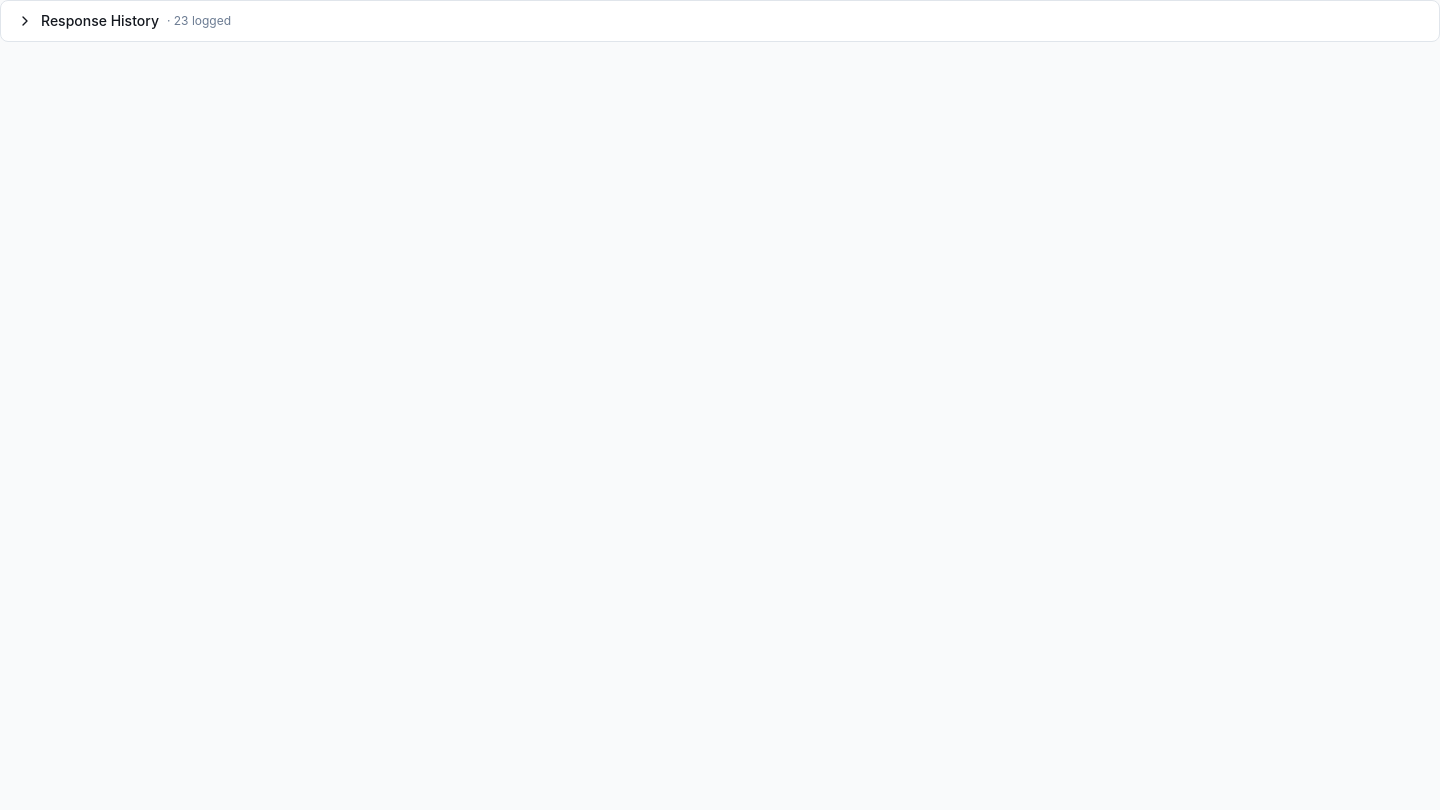
Test case: ResponseHistoryPanel — table, filters and paging › pages forward
The width and height of the screenshot is (1440, 810).
Click the button "Response History · 23 logged": [100, 20] box [1,1,1439,41]
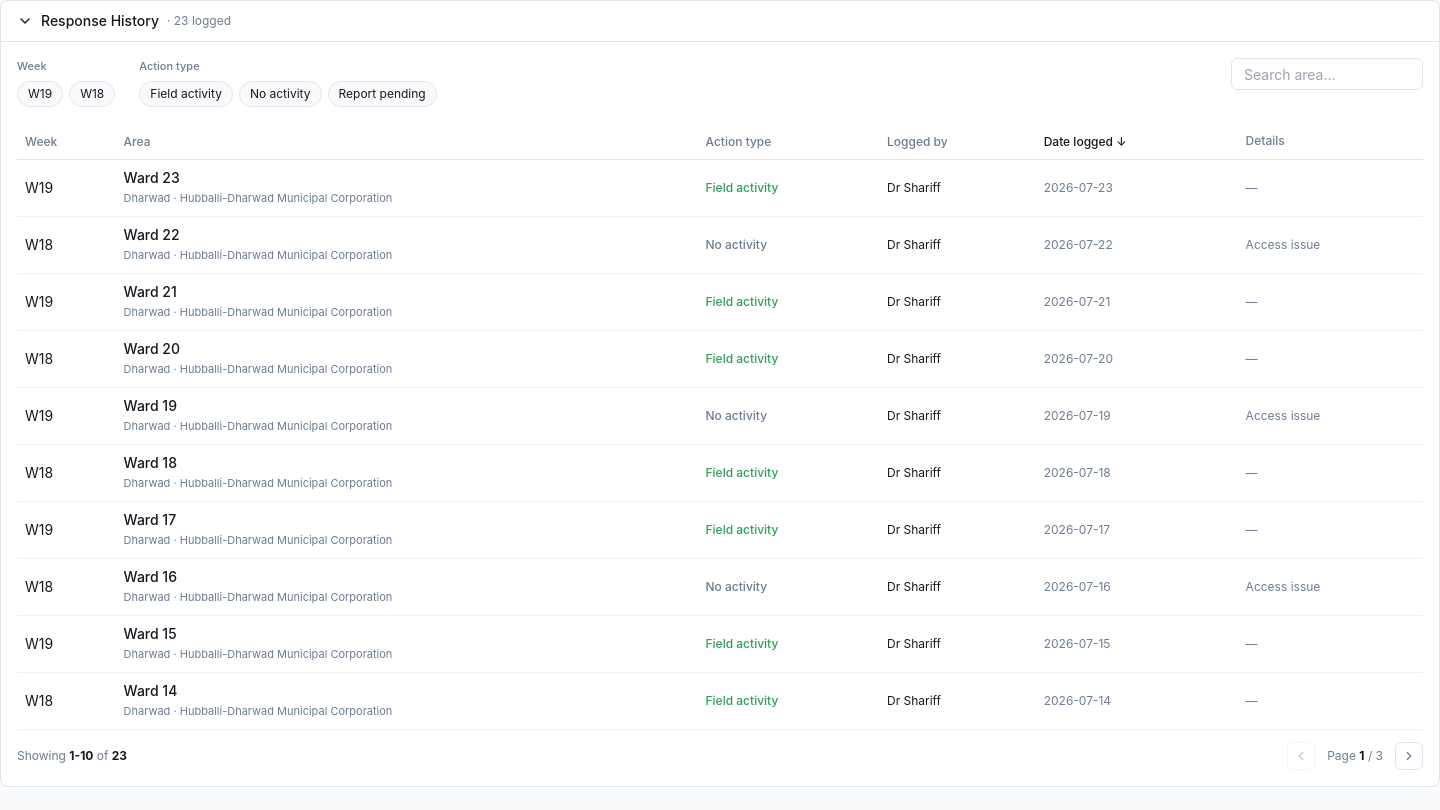
Click the button named "Next page": [1409, 756] box [1395,742,1423,770]
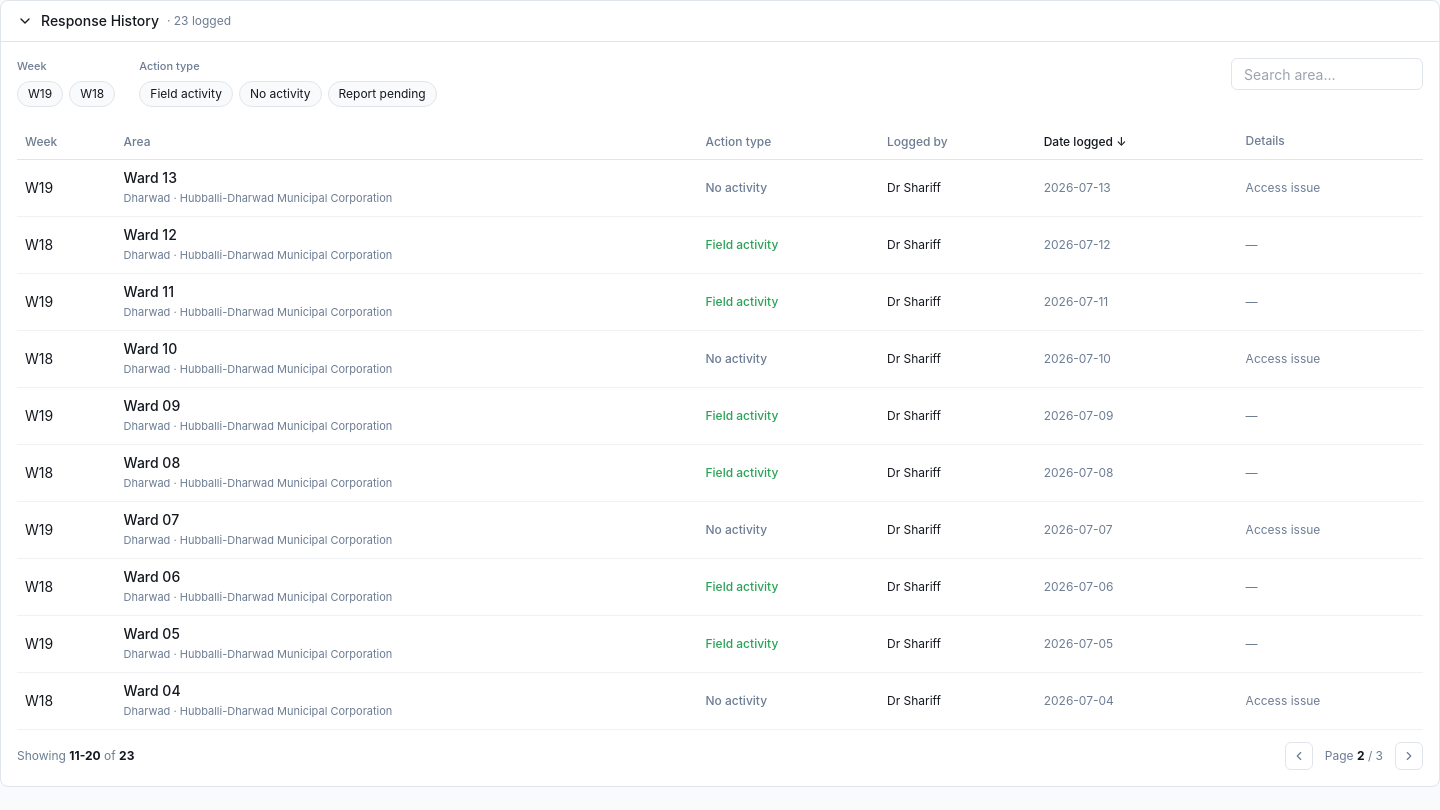
Now the text "Showing 11-20 of 23" is shown, box [17,748,134,764]
